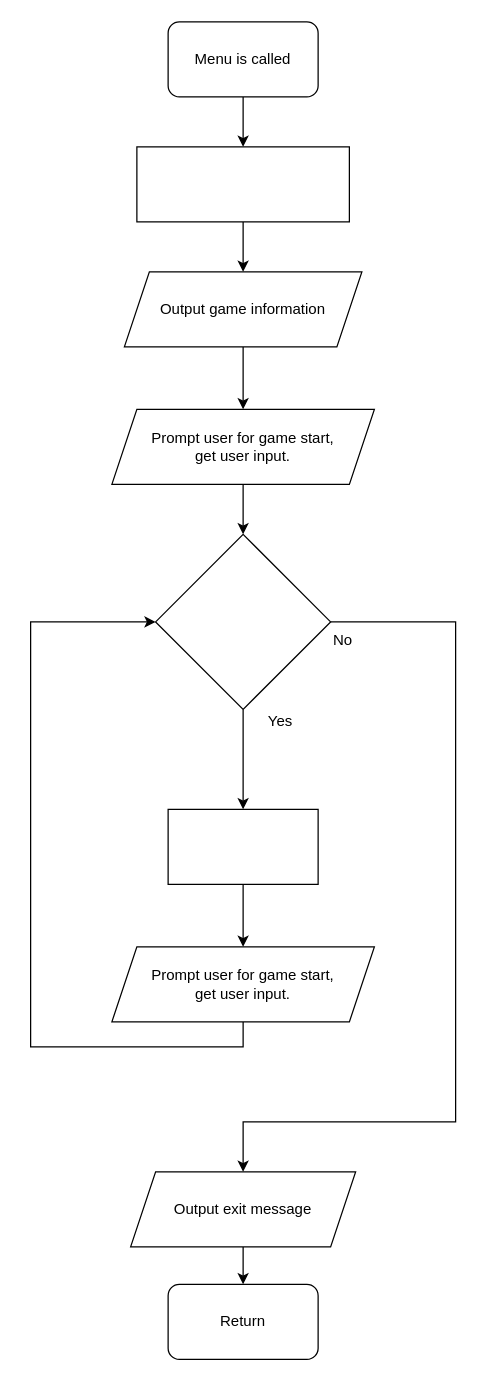
Image size: 488x1381. Some labels were removed from this diagram. The centre of each missing label's shape, as x and y in pixels:
"Call game function" goes at (242,846).
"Does user want to start a new game?" goes at (242,621).
"Initialize choice variable" goes at (242,184).
